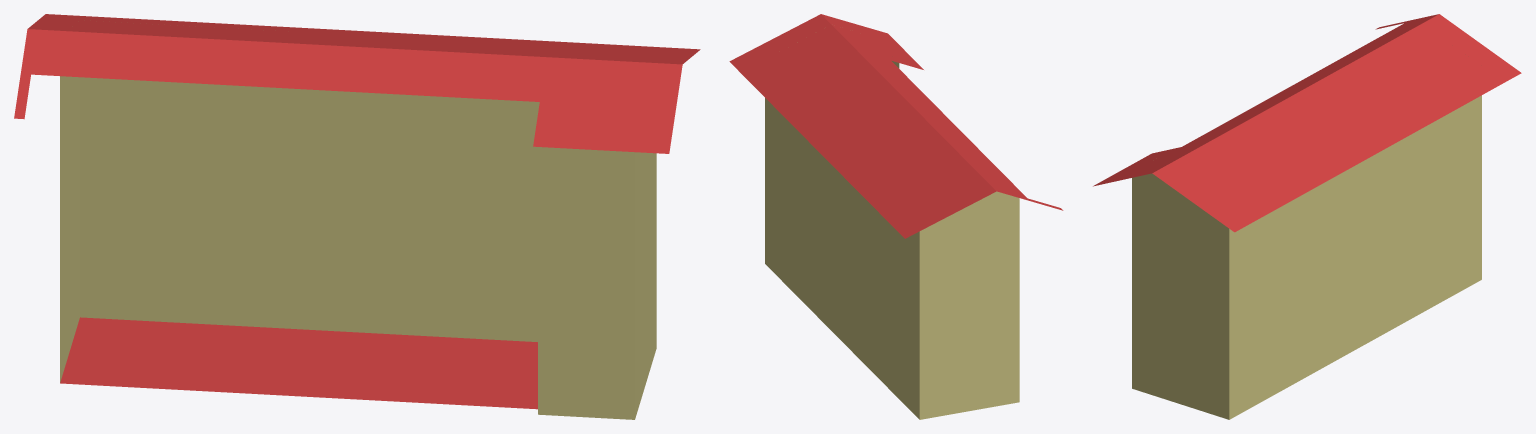
3 renders of one model, left to right at view 1: azimuth 30°, elevation 25°; view 2: azimuth 150°, elevation 25°; view 3: azimuth 270°, elevation 25°, orthographic. The views are drawn at different scales.
Bounding box in the file's own units: 12.8 × 11.33 × 6.89.
